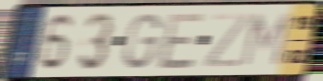3: (73, 11, 118, 73)
6: (37, 11, 75, 73)
E: (156, 10, 208, 71)
G: (121, 11, 163, 71)
M: (238, 11, 294, 69)
Z: (201, 11, 253, 70)
